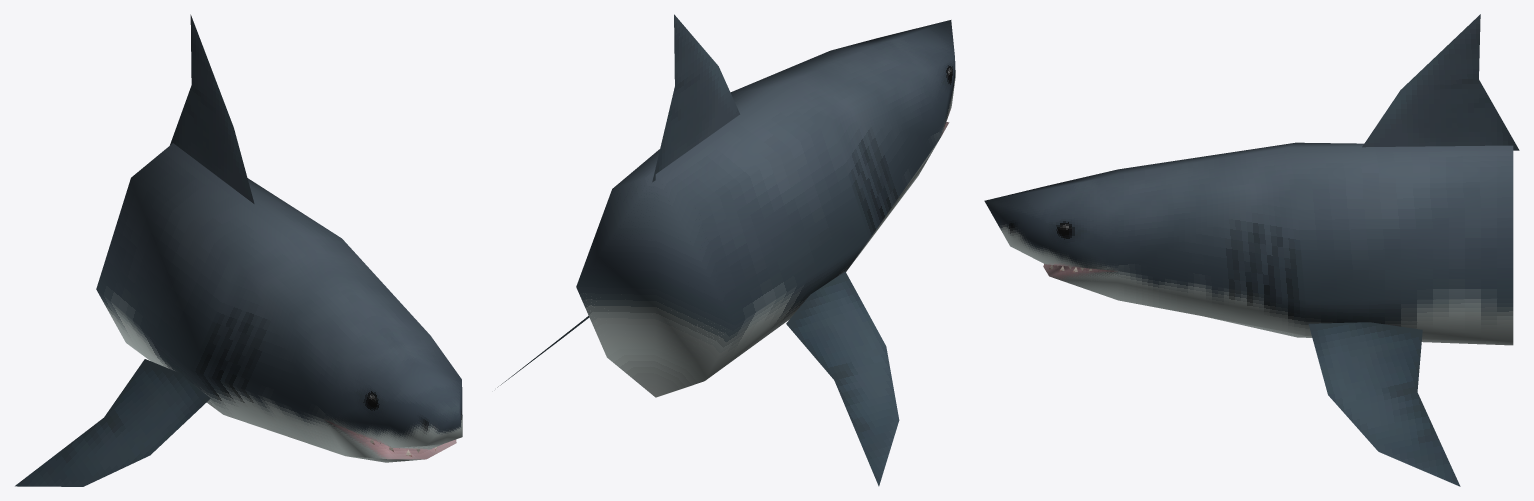
Rendered from SharkcutHead.glb.
3 renders of one model, left to right at view 1: azimuth 30°, elevation 25°; view 2: azimuth 150°, elevation 25°; view 3: azimuth 270°, elevation 25°, orthographic. The views are drawn at different scales.
Parts seen in each view (by area): view 1: body, frontfins, Backfin; view 2: body, frontfins, Backfin; view 3: body, frontfins, Backfin.
Part boxes in pixels (box(x1,y1,x2,y2)): body: box(96, 143, 462, 462); frontfins: box(15, 359, 210, 486); Backfin: box(170, 14, 254, 203); body: box(576, 20, 955, 397); frontfins: box(497, 271, 899, 486); Backfin: box(652, 14, 739, 182); body: box(984, 142, 1513, 345); frontfins: box(1308, 322, 1460, 486); Backfin: box(1362, 14, 1519, 150).
Size of the model in its own units: 2.48 by 2.65 by 3.31.
Materials: 1 (1 with a texture image).
